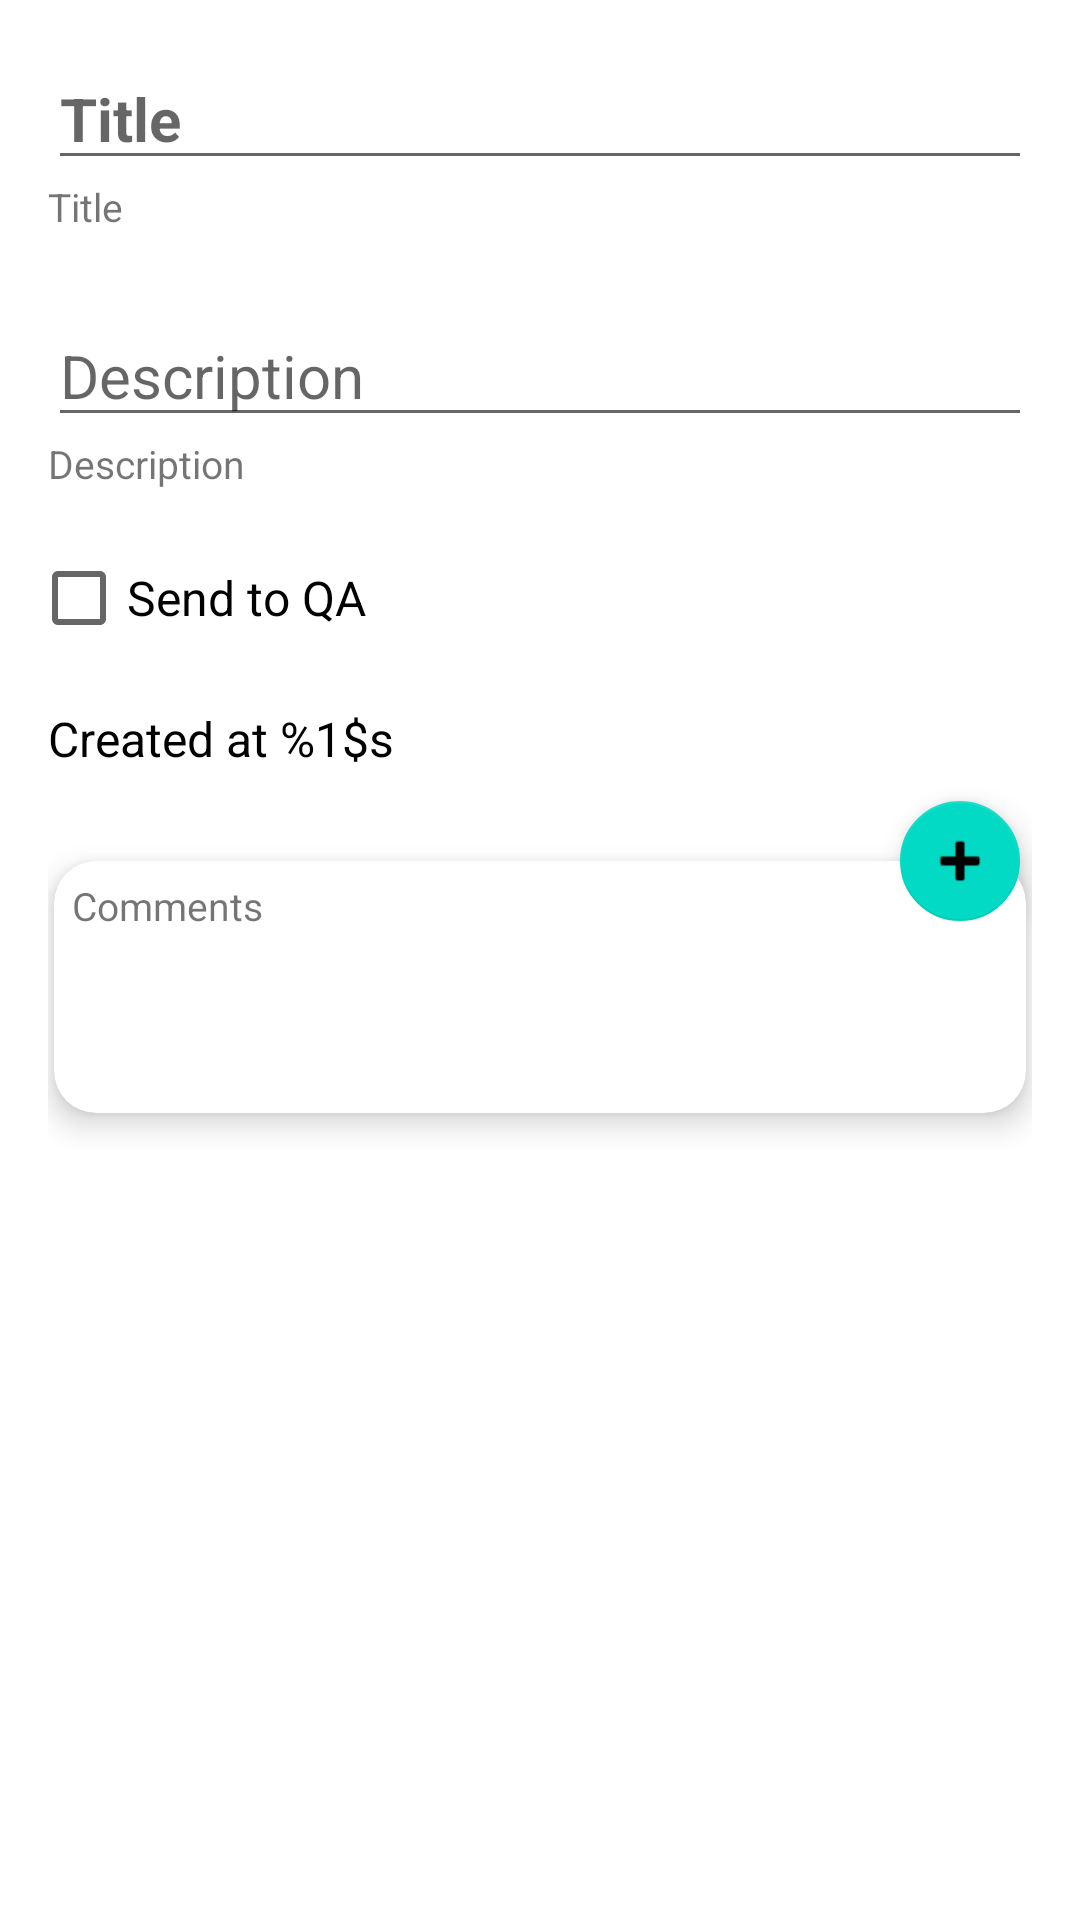

Icons on this 1080 x 1920 Android screen, each with its box as box(x1, y1, x2, y2):
Add: box(897, 801, 1031, 933)
